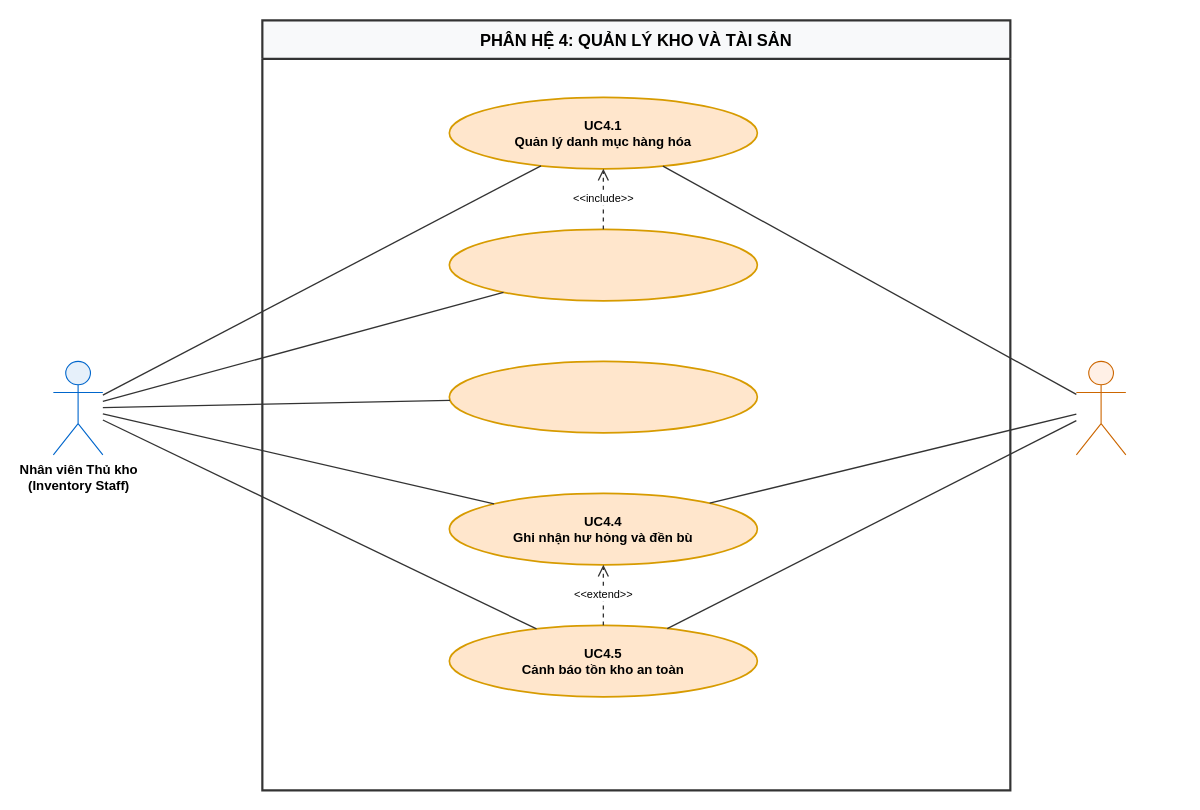
Some shapes in this 1200 by 810 pixel diagram are drawn without their labels. The box of each missing label's shape, as (x1, y1, x2, y2) in pixels:
Quản trị viên / Chủ sân (Manager / Administrator): (1075, 360, 1126, 455)
UC4.2 Lập phiếu nhập kho: (448, 228, 758, 301)
UC4.3 Quản lý tài sản dụng cụ cho thuê: (448, 360, 758, 433)
